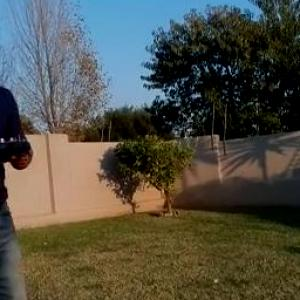follow: (1, 0, 41, 299)
